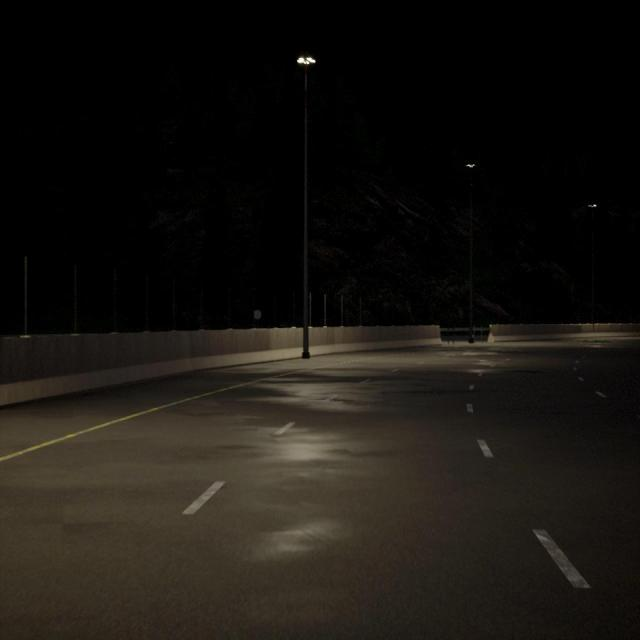Traffic_Signs: (254, 310, 261, 319)
